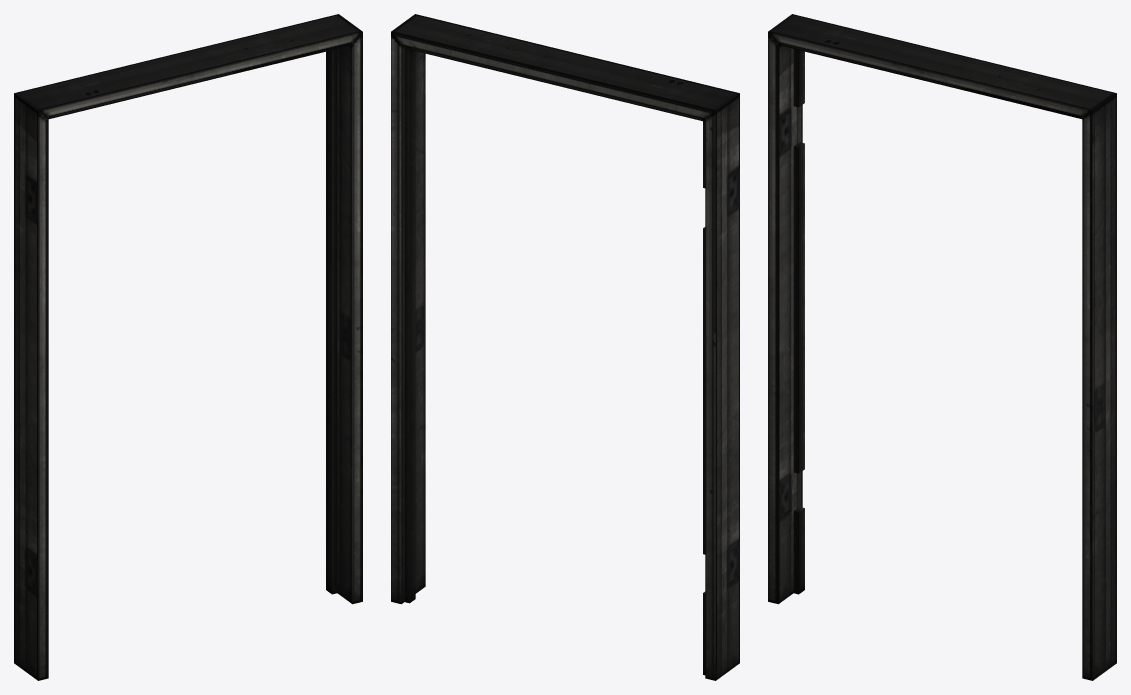
The model's file is p_rus_door_white_frame_58_lod0.glb.
3 renders of one model, left to right at view 1: azimuth 30°, elevation 25°; view 2: azimuth 150°, elevation 25°; view 3: azimuth 330°, elevation 25°, orthographic.
Visible parts, largest first — view 1: surf0; view 2: surf0; view 3: surf0.
Boxes of the visible parts, x1=… form: surf0: x1=14, y1=14, x2=362, y2=680; surf0: x1=391, y1=14, x2=739, y2=680; surf0: x1=768, y1=14, x2=1116, y2=680.
Size of the model in its own units: 62 by 104 by 8.
